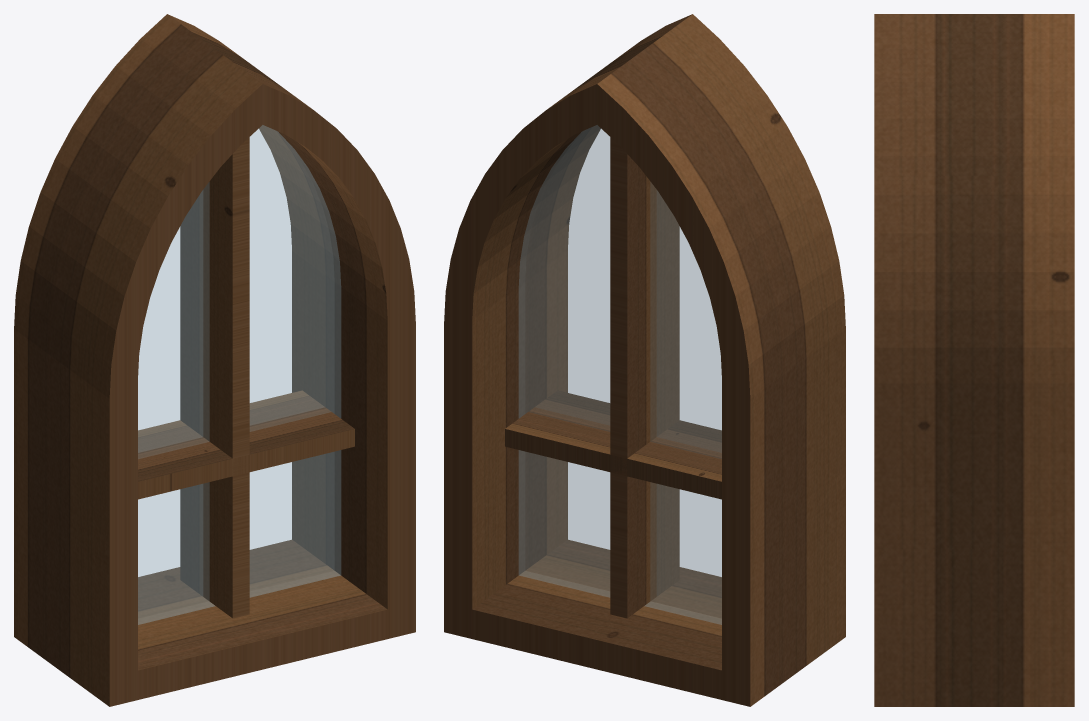
The model's file is CastleWallWindowFrameClear.glb.
3 renders of one model, left to right at view 1: azimuth 30°, elevation 25°; view 2: azimuth 150°, elevation 25°; view 3: azimuth 270°, elevation 25°, orthographic. The views are drawn at different scales.
Visible parts, largest first — view 1: castle_wall_window_frame_clear; view 2: castle_wall_window_frame_clear; view 3: castle_wall_window_frame_clear.
Boxes of the visible parts, box(x1,y1,x2,y2) form: castle_wall_window_frame_clear: box(14, 14, 415, 706); castle_wall_window_frame_clear: box(444, 14, 845, 706); castle_wall_window_frame_clear: box(874, 14, 1074, 706).
Size of the model in its own units: 0.814 by 1.49 by 0.44.
2 materials, 1 textured.
